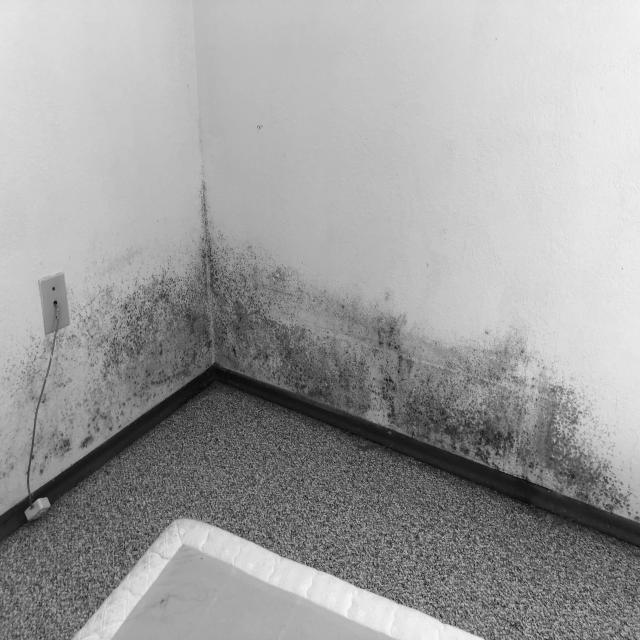stain marks: (0, 178, 639, 544)
